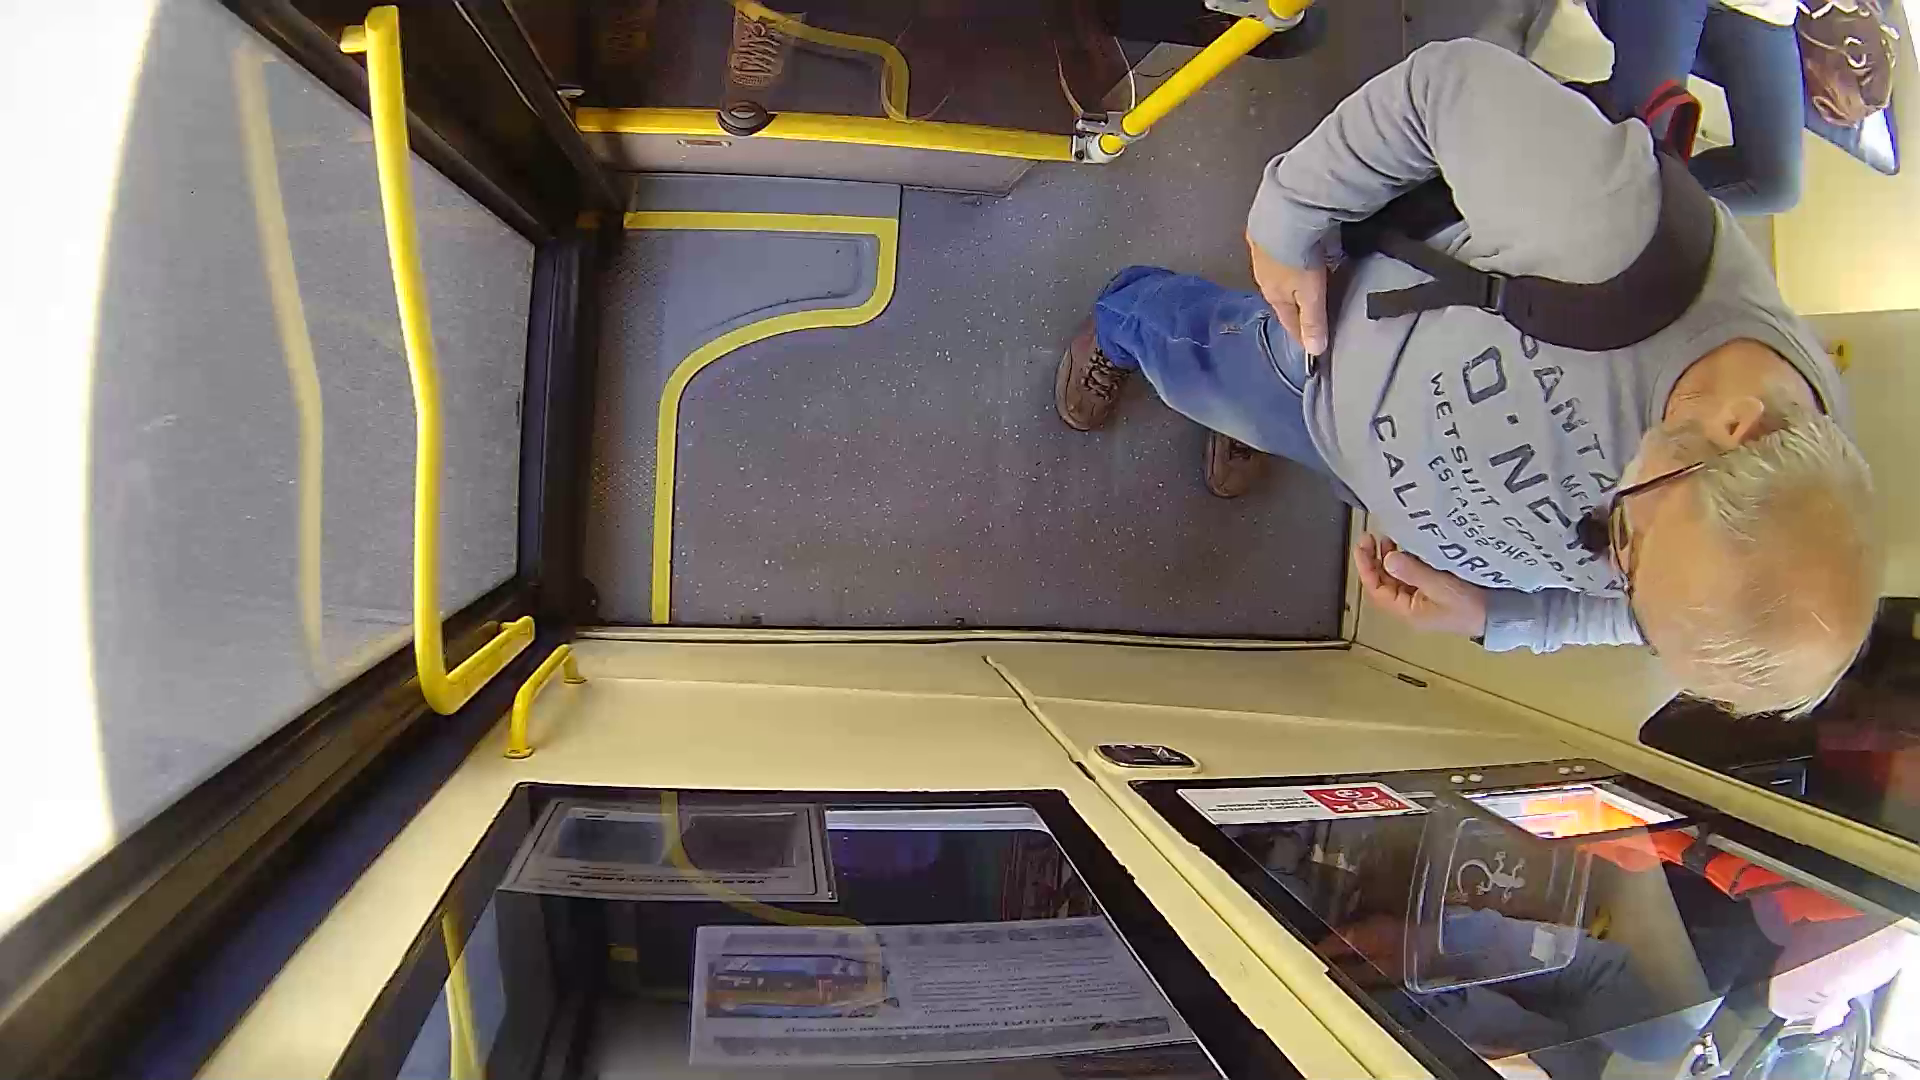person: (1054, 32, 1891, 768)
